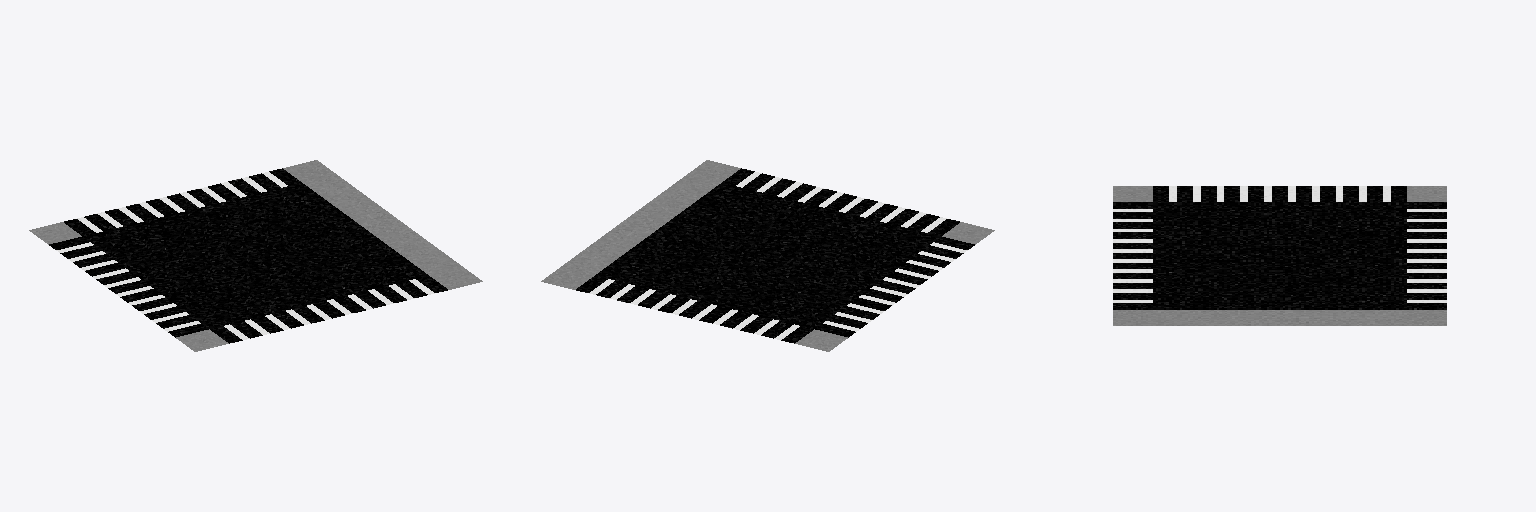
3 views of the same model, side by side, from view 1: azimuth 30°, elevation 25°; view 2: azimuth 150°, elevation 25°; view 3: azimuth 270°, elevation 25° (orthographic).
Visible parts, largest first — view 1: Plane.016_Plane.028; view 2: Plane.016_Plane.028; view 3: Plane.016_Plane.028.
Part boxes in pixels (x1,y1,x2,y2): Plane.016_Plane.028: (29, 160, 482, 351); Plane.016_Plane.028: (541, 160, 994, 351); Plane.016_Plane.028: (1113, 186, 1446, 325).
Bounding box in the file's own units: 10 × 0 × 10.
Materials: 1 (1 with a texture image).